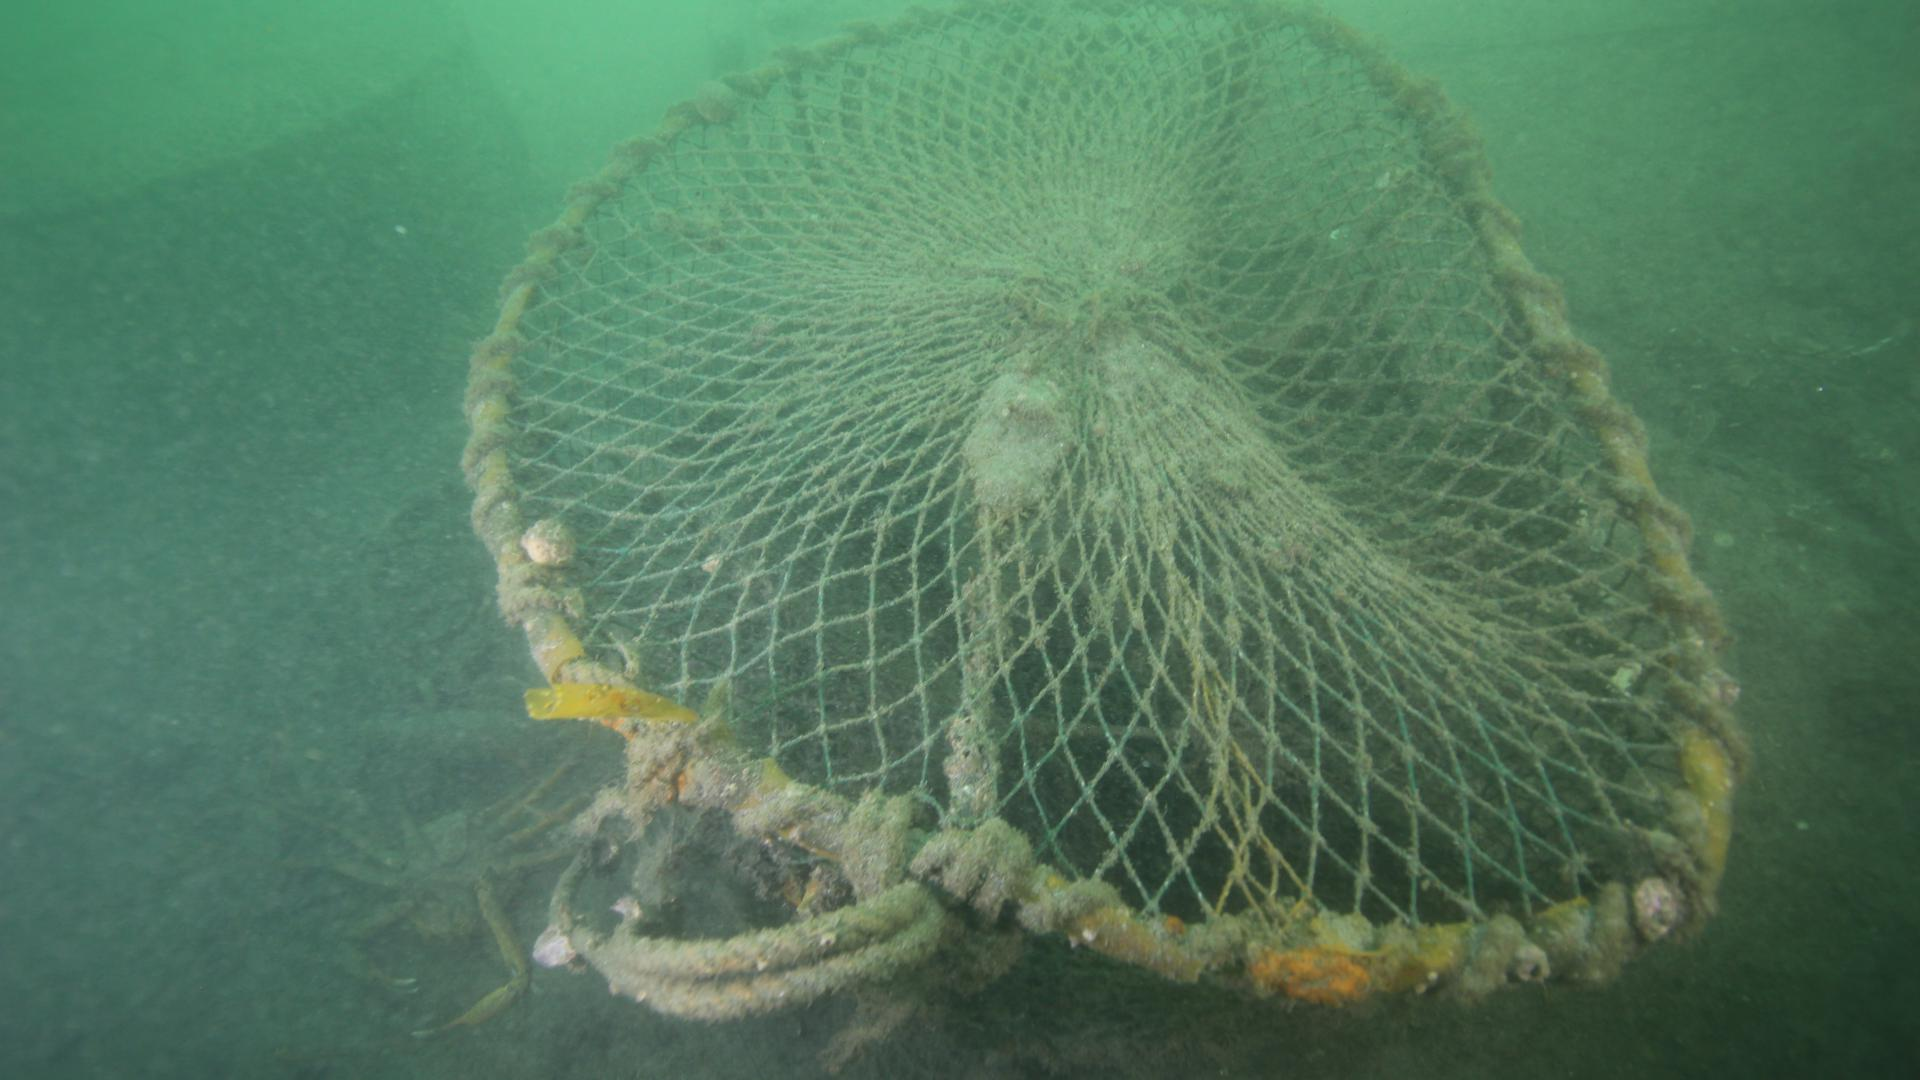bundle of ropes: (549, 845, 945, 1017)
circular fish trap: (465, 3, 1738, 1001)
